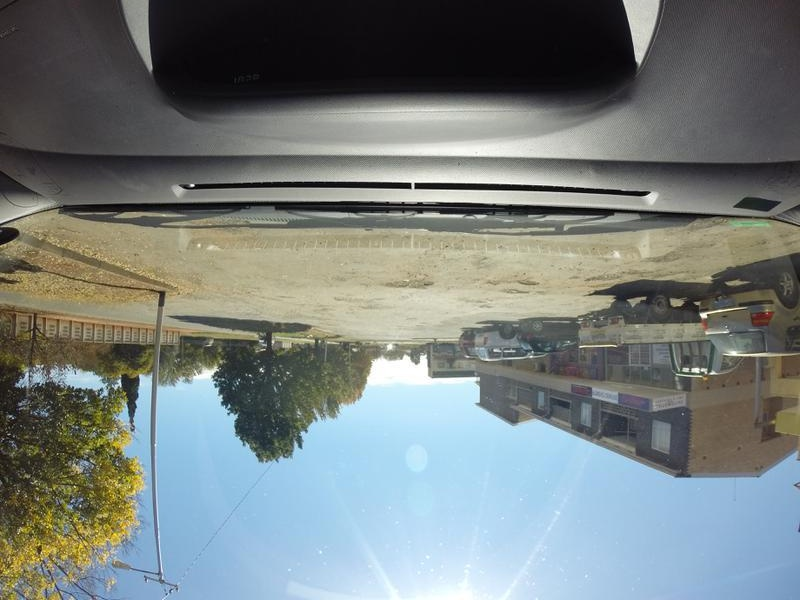pothole: (645, 240, 712, 269), (382, 277, 450, 293), (586, 270, 621, 287), (334, 291, 375, 304), (466, 293, 499, 307), (502, 286, 526, 297), (520, 279, 548, 284)
